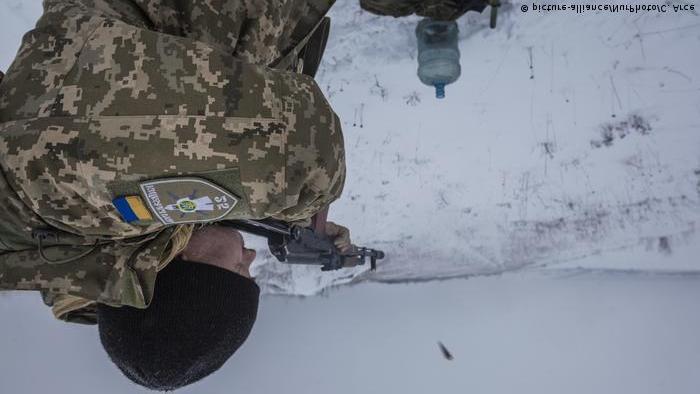larga: (214, 207, 387, 273)
